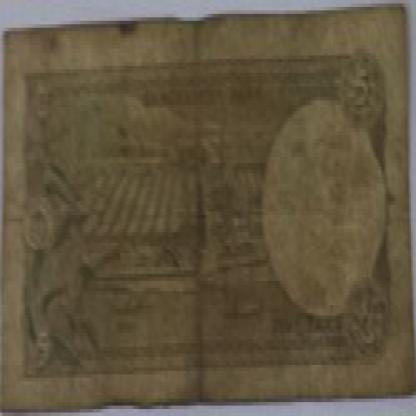Five Taka: (354, 291, 383, 382), (28, 322, 55, 374), (348, 59, 373, 114)
